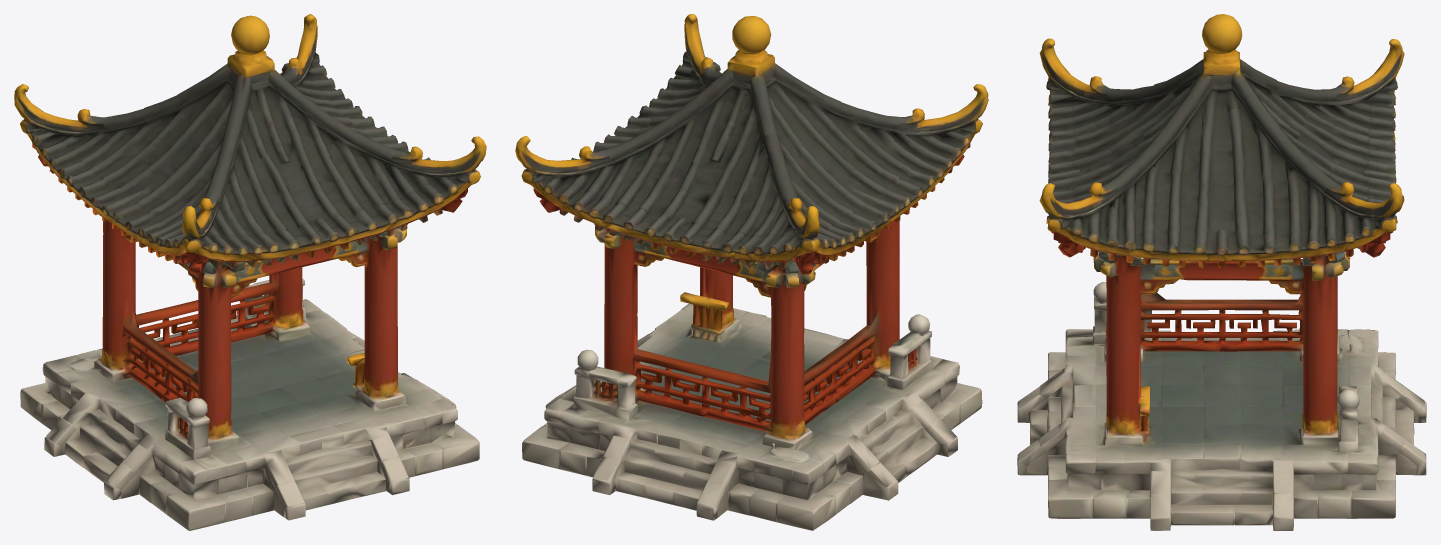
File: santan-pavilion.glb
3 renders of one model, left to right at view 1: azimuth 30°, elevation 25°; view 2: azimuth 150°, elevation 25°; view 3: azimuth 270°, elevation 25°, orthographic. The views are drawn at different scales.
Parts seen in each view (by area): view 1: tripo_node_29c7a2ee-0800-4bfb-a91e-e847543e9f90; view 2: tripo_node_29c7a2ee-0800-4bfb-a91e-e847543e9f90; view 3: tripo_node_29c7a2ee-0800-4bfb-a91e-e847543e9f90.
Part boxes in pixels (x1,y1,x2,y2): tripo_node_29c7a2ee-0800-4bfb-a91e-e847543e9f90: (14, 14, 486, 530); tripo_node_29c7a2ee-0800-4bfb-a91e-e847543e9f90: (515, 14, 988, 530); tripo_node_29c7a2ee-0800-4bfb-a91e-e847543e9f90: (1017, 14, 1426, 530).
Size of the model in its own units: 0.8428 by 0.979 by 0.8426.
Materials: 1 (1 with a texture image).
